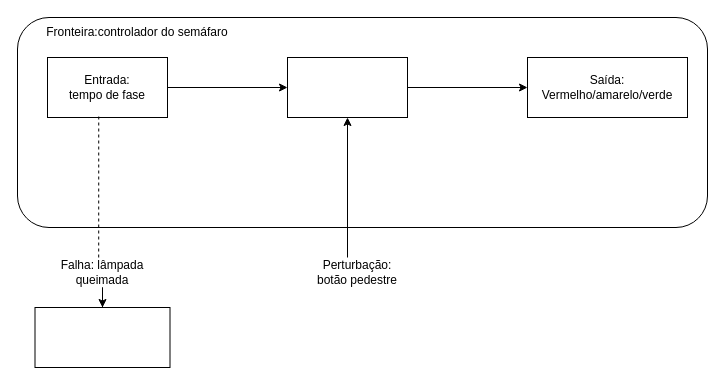
The diagram is 725 pixels wide and 385 high, and some of its shapes have lost their labels. The shapes that lost their labels are listed below. From the top down, each one's box as (x1, y1, x2, y2) in pixels, then its label:
(286, 56, 408, 118): Processamento: decidir fase
(34, 306, 170, 368): Compartamento seguro: pisca amarelo
